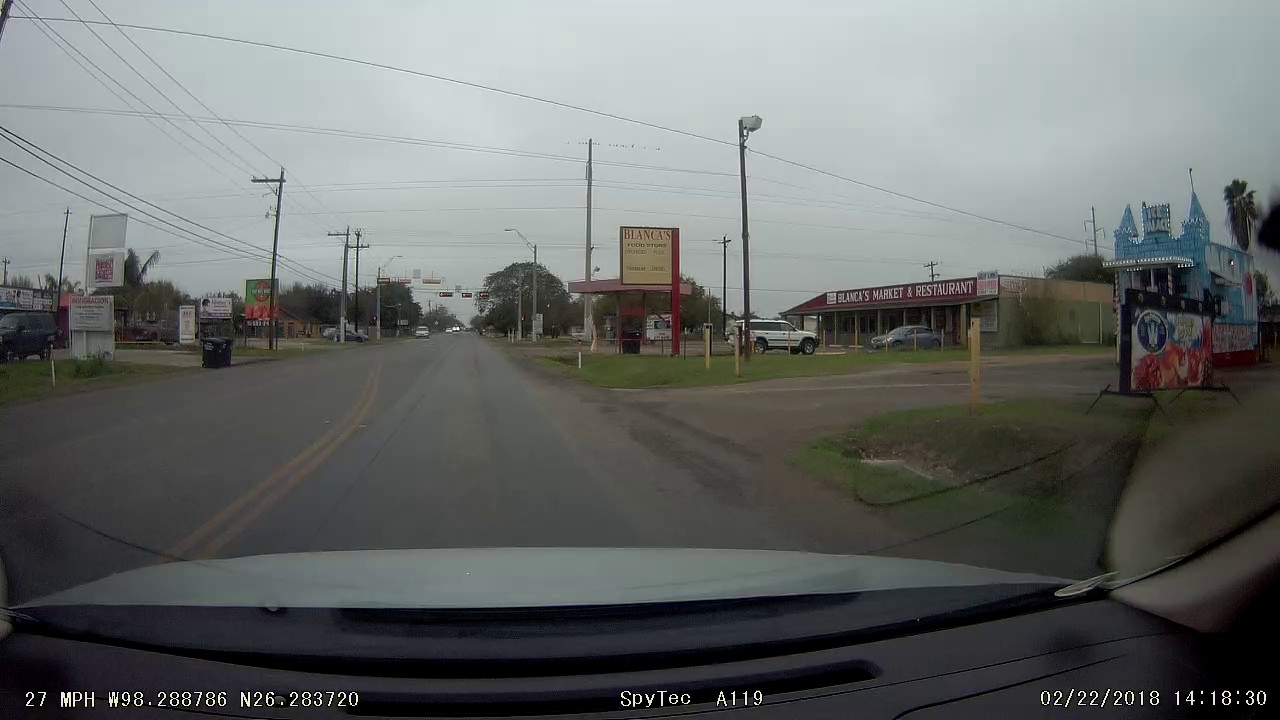blurredLine: (526, 385, 601, 461)
